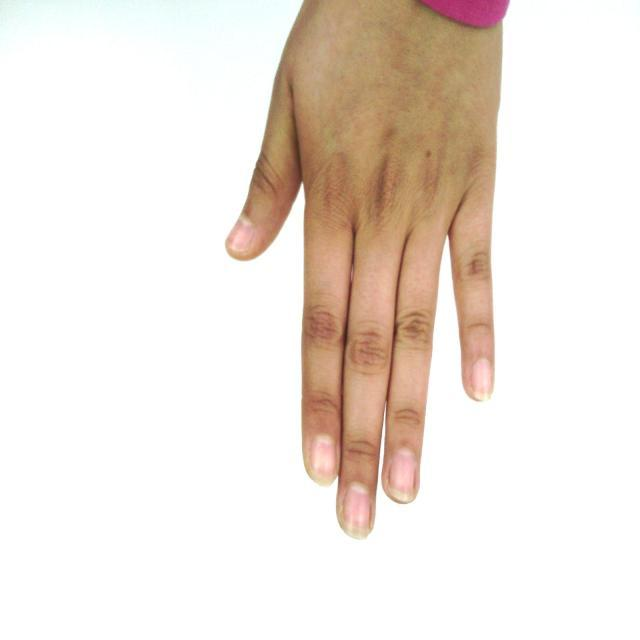Fingernail: (342, 485, 370, 539), (387, 450, 416, 501), (310, 436, 336, 485), (228, 218, 253, 251), (472, 359, 491, 401)
